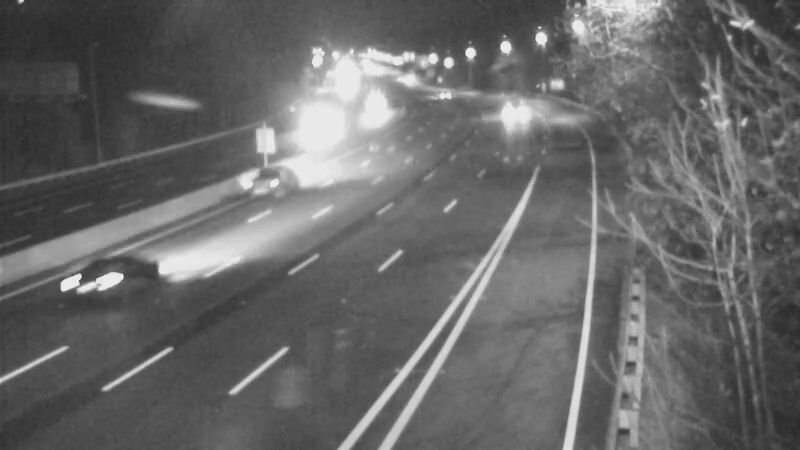vehicle: (210, 145, 290, 225), (54, 240, 134, 320), (491, 87, 541, 137), (423, 70, 473, 120), (288, 107, 338, 157)
